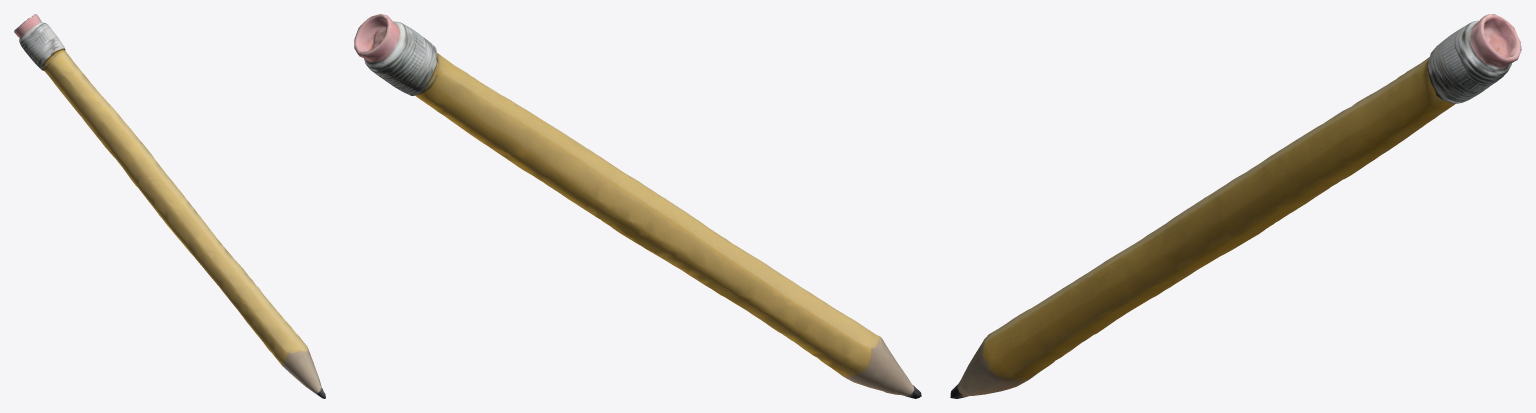
Rendered from Pencil.fbx.
3 views of the same model, side by side, from view 1: azimuth 90°, elevation 25°; view 2: azimuth 150°, elevation 25°; view 3: azimuth 270°, elevation 25° (orthographic). The views are drawn at different scales.
Parts seen in each view (by area): view 1: material_0; view 2: material_0; view 3: material_0.
Boxes of the visible parts, x1,y1,x2,y2 form: material_0: (14,14,325,398); material_0: (354,14,921,398); material_0: (950,14,1521,398).
Size of the model in its own units: 69.52 by 100 by 95.52.
1 material, 1 textured.
